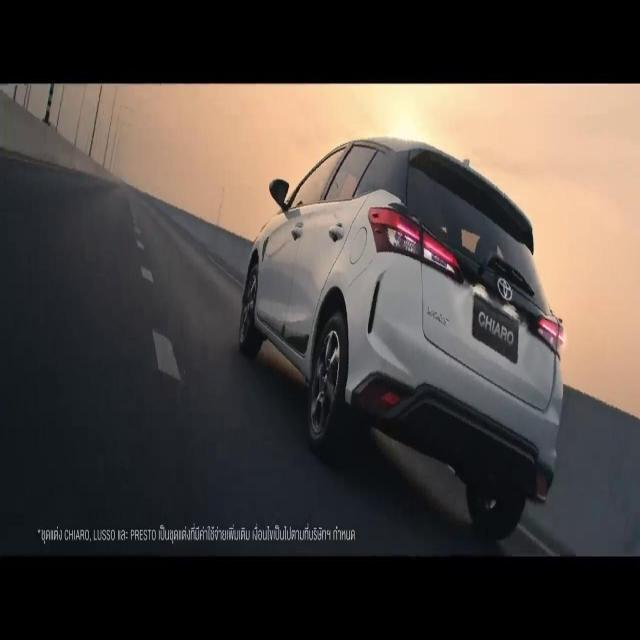Hatchback: (238, 138, 564, 539)
